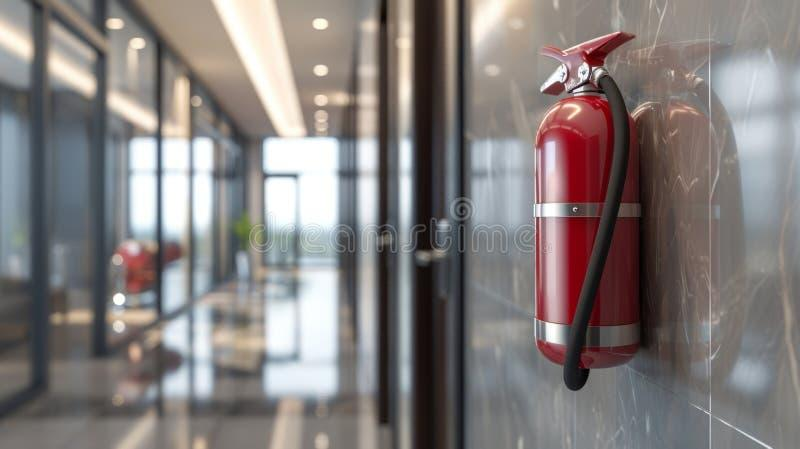wall-mounted: (505, 26, 669, 395)
